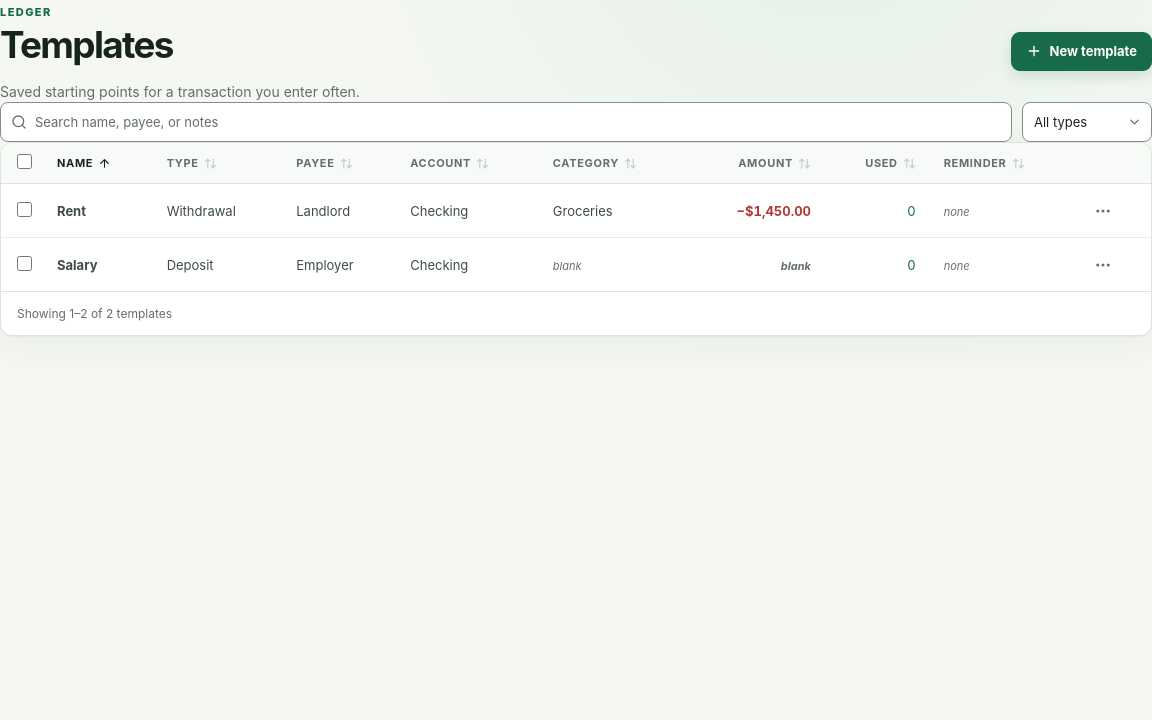
Scenario: the templates screen › will not offer a source account when a deposit is selected
The width and height of the screenshot is (1152, 720).
Expected: the heading "Templates" is shown, [0, 26, 173, 65]
Expected: the text "Rent" is shown, [57, 203, 86, 219]
Click the checkbox named "Select Rent".
click(24, 209)  # box [16, 202, 32, 217]
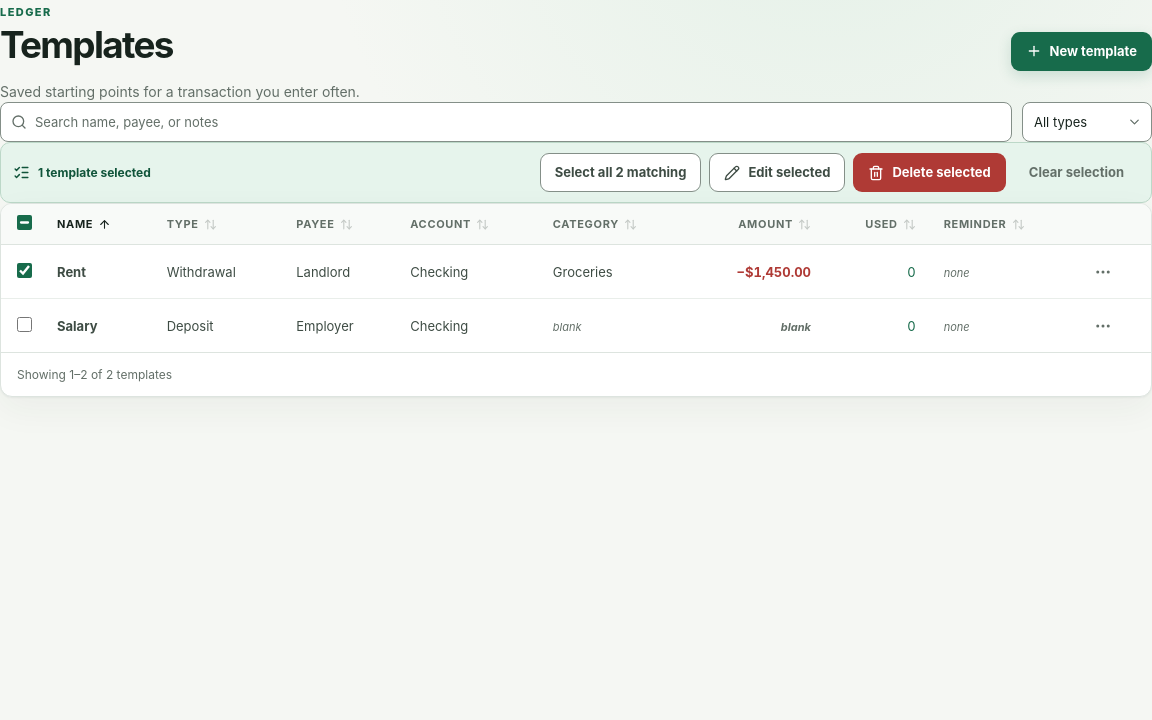
Click the checkbox named "Select Salary".
click(24, 324)  # box [16, 317, 32, 332]
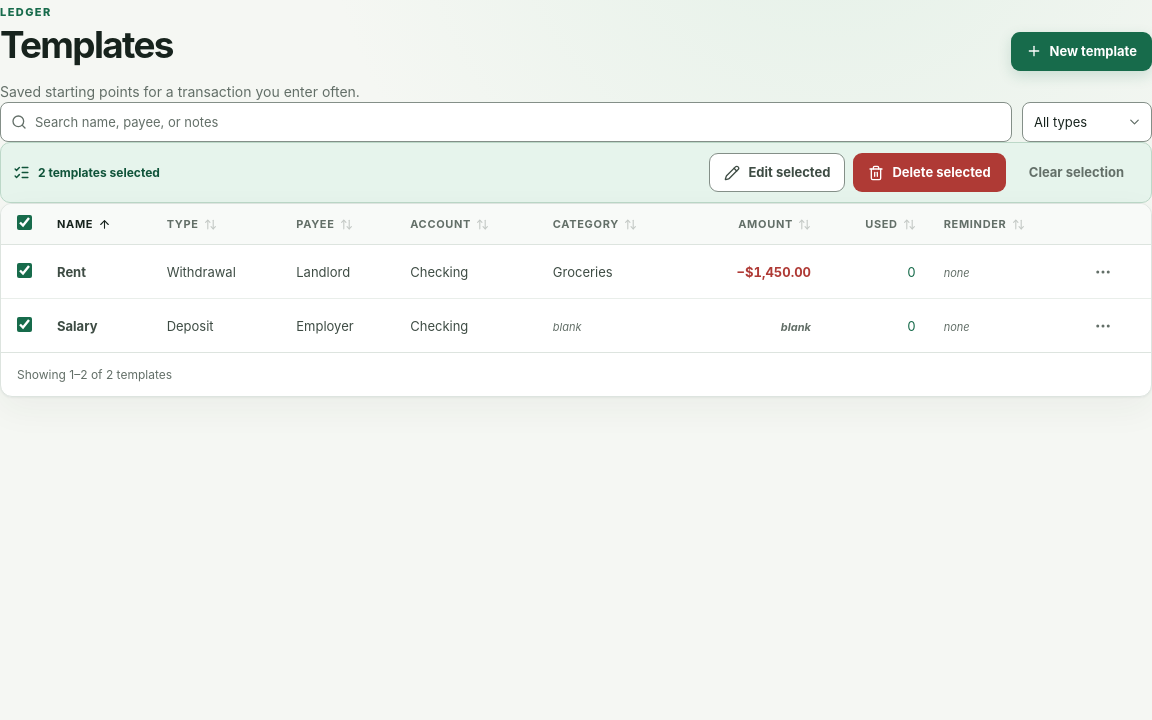
Click the button "Edit selected".
click(777, 173)  # box [709, 153, 845, 192]
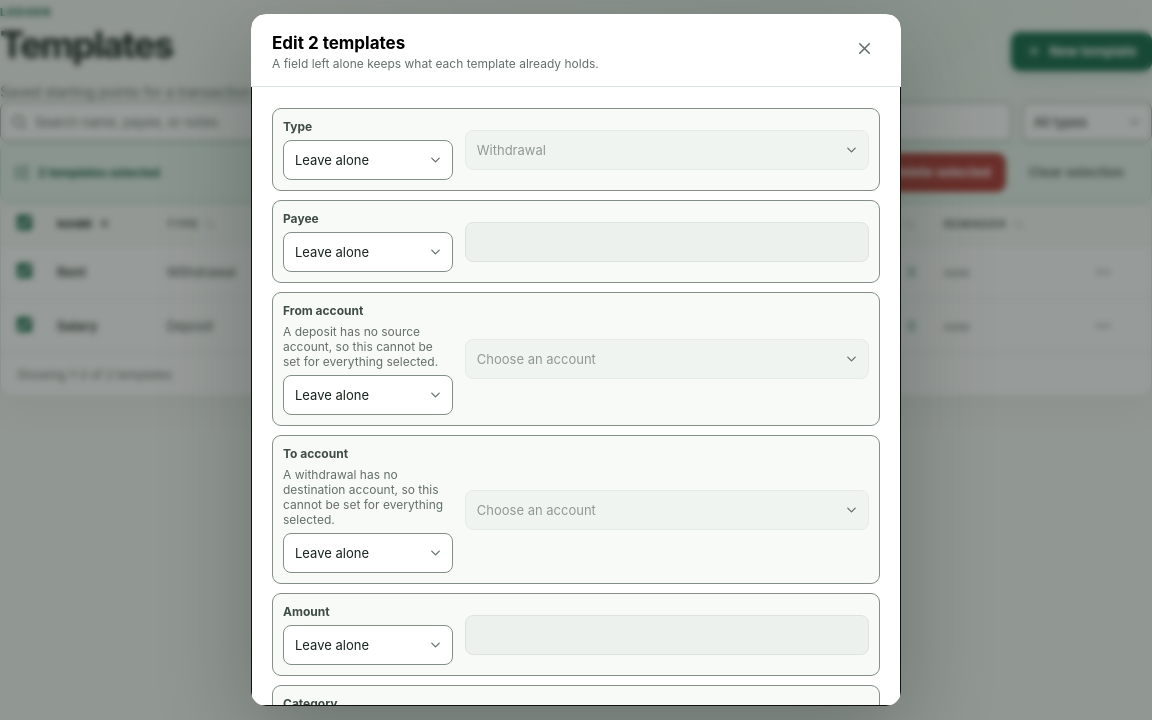
Result: the text "A deposit has no source account" is shown at [283, 324, 438, 369]
